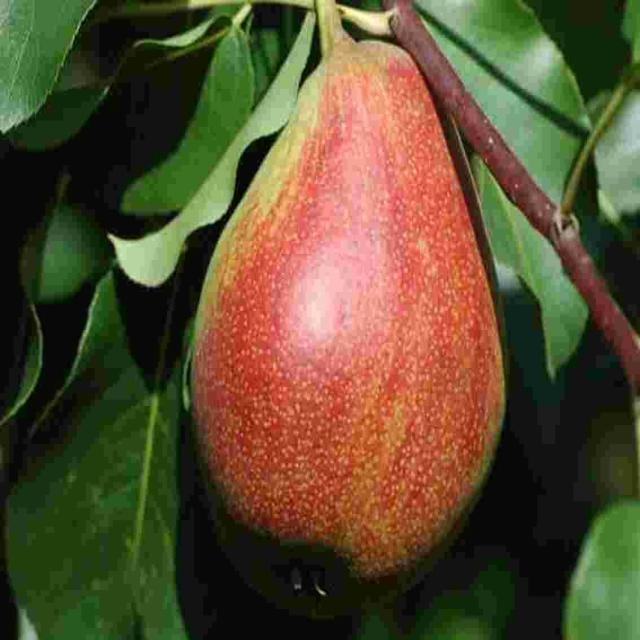pear: (8, 15, 627, 630), (184, 37, 508, 580)
